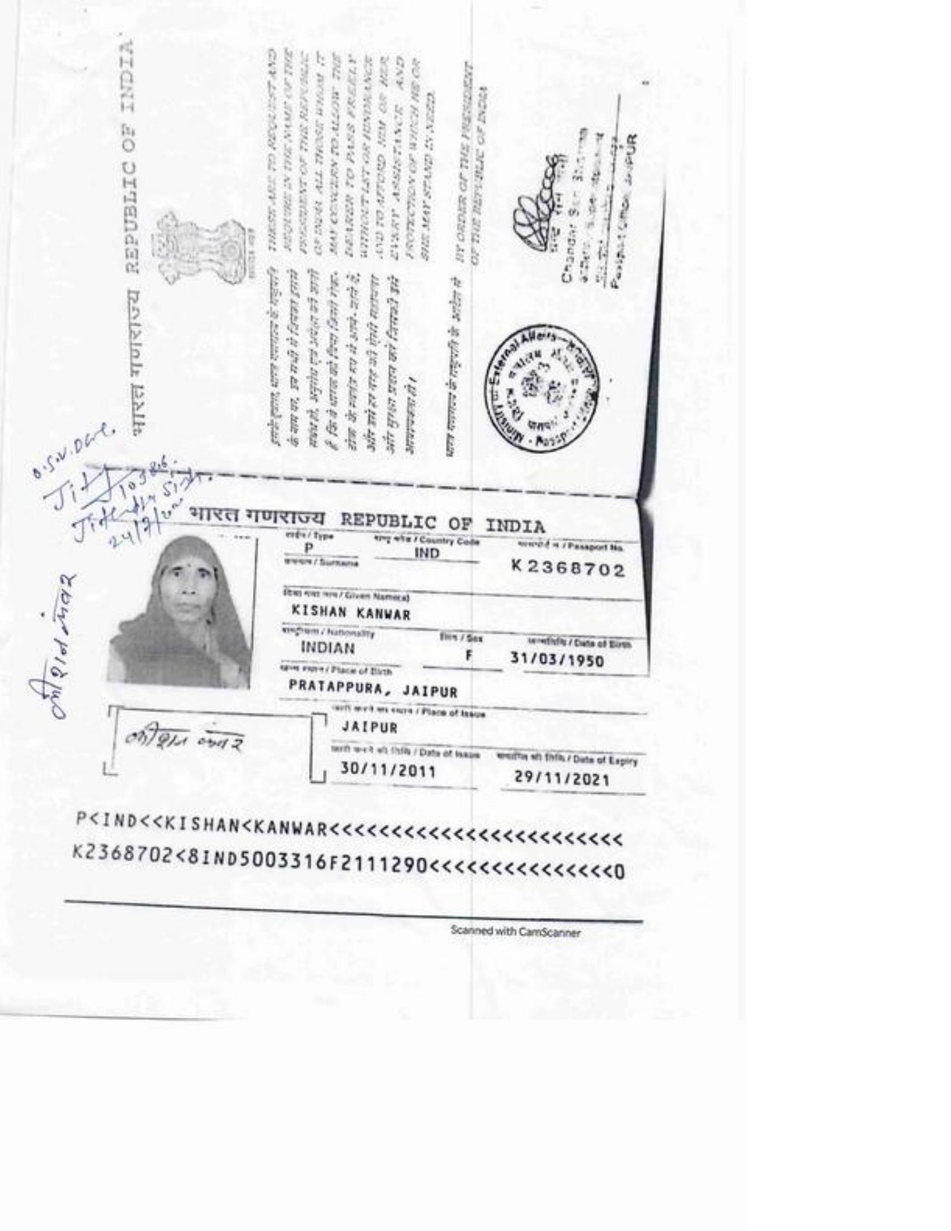DOB: (504, 646, 615, 672)
country_code: (410, 543, 445, 563)
date_of_expiry: (500, 763, 622, 792)
date_of_issue: (337, 754, 441, 788)
details: (64, 800, 642, 887)
name: (277, 586, 429, 626)
nationality: (284, 637, 371, 664)
passport_no: (501, 553, 631, 581)
photo: (114, 534, 241, 686)
place_of_birth: (281, 673, 463, 704)
place_of_issue: (335, 712, 403, 739)
sex: (449, 643, 487, 669)
sign: (120, 717, 250, 764)
type: (291, 537, 328, 560)
